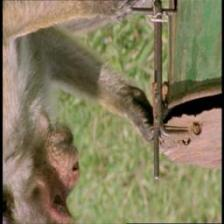monkey: (16, 117, 81, 224)
